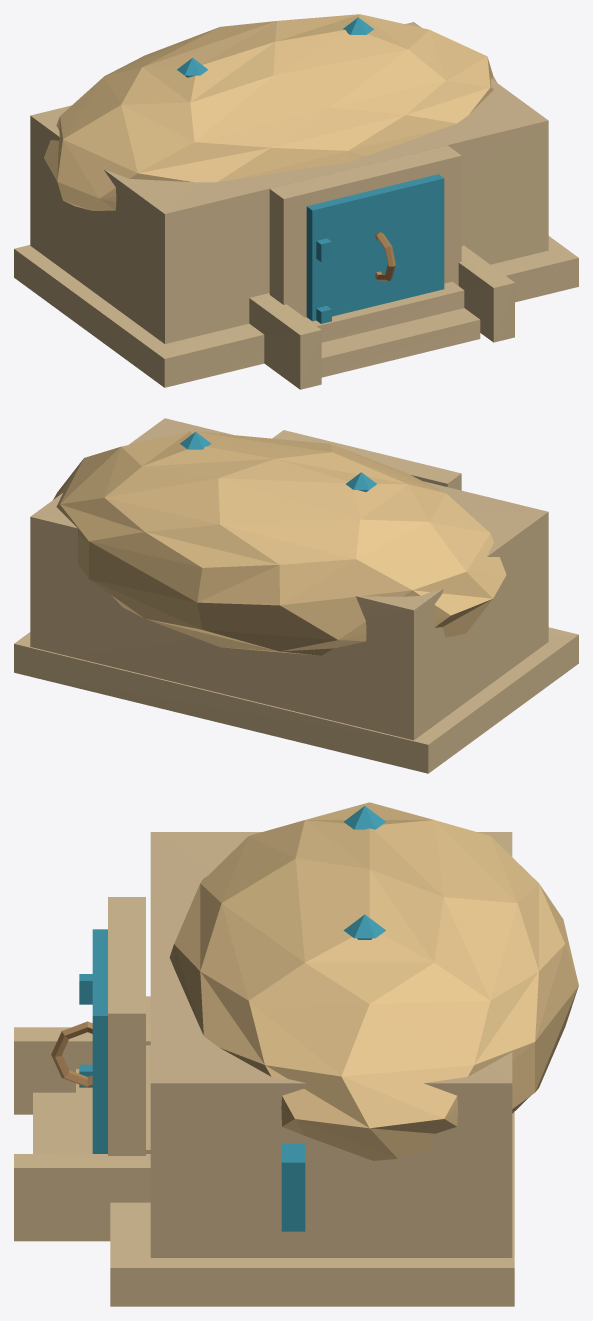
The model's file is seed-vault.source.glb.
3 views of the same model, one above another, from view 1: azimuth 30°, elevation 25°; view 2: azimuth 150°, elevation 25°; view 3: azimuth 270°, elevation 25° (orthographic). The views are drawn at different scales.
Parts seen in each view (by area): view 1: seed-vault-low-faceted-earth-cover-mesh, seed-vault-reinforced-vault-body-mesh, seed-vault-sealed-dark-metal-hatch-mesh, seed-vault-stone-foundation-mesh, seed-vault-reinforced-entrance-facade-mesh, seed-vault-concrete-entry-step-mesh (×2), seed-vault-low-entry-retaining-wall-mesh (×2), seed-vault-hatch-wheel-handle-mesh; view 2: seed-vault-low-faceted-earth-cover-mesh, seed-vault-reinforced-vault-body-mesh, seed-vault-stone-foundation-mesh, seed-vault-reinforced-entrance-facade-mesh; view 3: seed-vault-low-faceted-earth-cover-mesh, seed-vault-reinforced-vault-body-mesh, seed-vault-stone-foundation-mesh, seed-vault-low-entry-retaining-wall-mesh (×2), seed-vault-reinforced-entrance-facade-mesh, seed-vault-concrete-entry-step-mesh (×2), seed-vault-sealed-dark-metal-hatch-mesh, seed-vault-compact-service-panel-mesh, seed-vault-hatch-wheel-handle-mesh, seed-vault-ventilation-cap-mesh.
Boxes of the visible parts, bbox=[...] form: seed-vault-low-faceted-earth-cover-mesh: bbox=[44, 14, 497, 210]; seed-vault-reinforced-vault-body-mesh: bbox=[30, 22, 548, 343]; seed-vault-sealed-dark-metal-hatch-mesh: bbox=[306, 174, 444, 321]; seed-vault-stone-foundation-mesh: bbox=[14, 236, 578, 387]; seed-vault-reinforced-entrance-facade-mesh: bbox=[269, 145, 461, 317]; seed-vault-concrete-entry-step-mesh (×2): bbox=[305, 281, 480, 377]; seed-vault-low-entry-retaining-wall-mesh (×2): bbox=[249, 245, 514, 389]; seed-vault-hatch-wheel-handle-mesh: bbox=[375, 232, 395, 281]; seed-vault-low-faceted-earth-cover-mesh: bbox=[53, 431, 506, 655]; seed-vault-reinforced-vault-body-mesh: bbox=[30, 418, 548, 740]; seed-vault-stone-foundation-mesh: bbox=[14, 627, 578, 773]; seed-vault-reinforced-entrance-facade-mesh: bbox=[272, 430, 461, 490]; seed-vault-low-faceted-earth-cover-mesh: bbox=[169, 802, 578, 1160]; seed-vault-reinforced-vault-body-mesh: bbox=[150, 832, 512, 1257]; seed-vault-stone-foundation-mesh: bbox=[110, 996, 514, 1306]; seed-vault-low-entry-retaining-wall-mesh (×2): bbox=[14, 1027, 150, 1241]; seed-vault-reinforced-entrance-facade-mesh: bbox=[108, 897, 145, 1155]; seed-vault-concrete-entry-step-mesh (×2): bbox=[33, 1069, 92, 1153]; seed-vault-sealed-dark-metal-hatch-mesh: bbox=[92, 929, 107, 1153]; seed-vault-compact-service-panel-mesh: bbox=[281, 1143, 305, 1231]; seed-vault-hatch-wheel-handle-mesh: bbox=[51, 1021, 92, 1087]; seed-vault-ventilation-cap-mesh: bbox=[343, 914, 385, 938].
Bounding box in the file's own units: 2.86 × 1.44 × 2.38.
